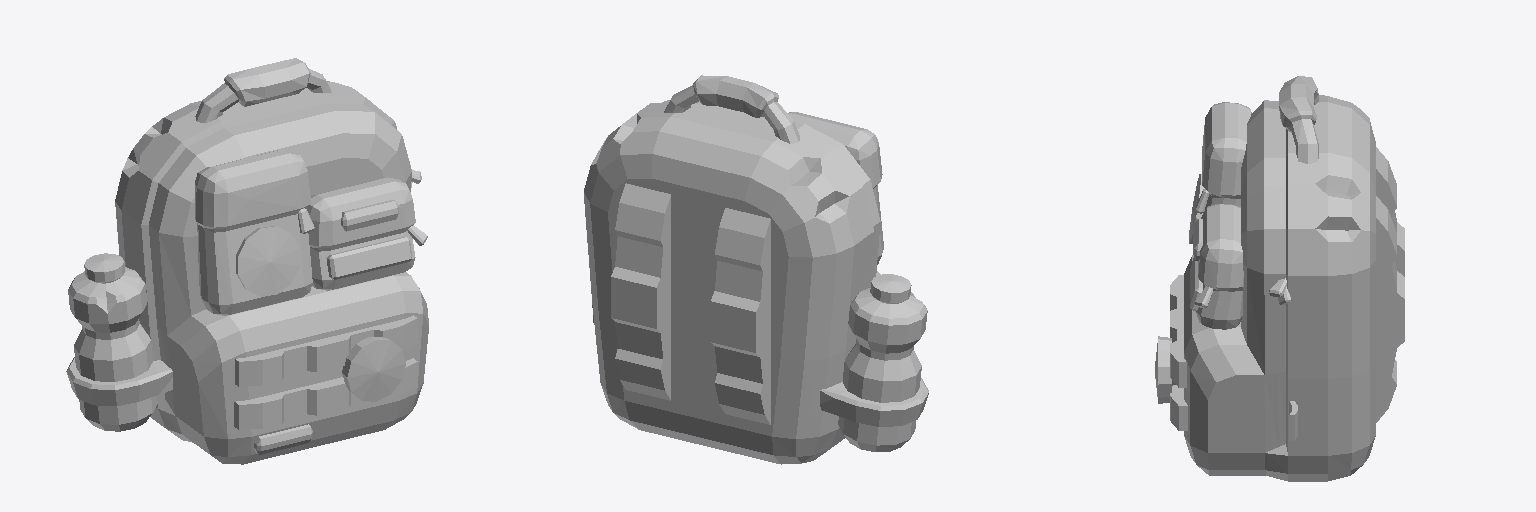
Rendered from backpack.obj.
3 views of the same model, side by side, from view 1: azimuth 30°, elevation 25°; view 2: azimuth 150°, elevation 25°; view 3: azimuth 270°, elevation 25° (orthographic).
Parts seen in each view (by area): view 1: backpack_Cube.306; view 2: backpack_Cube.306; view 3: backpack_Cube.306.
Part boxes in pixels (left/top/right/bottom): backpack_Cube.306: left=66, top=58, right=428, bottom=464; backpack_Cube.306: left=584, top=75, right=928, bottom=464; backpack_Cube.306: left=1155, top=76, right=1404, bottom=481.
Bounding box in the file's own units: 0.8764 × 0.8729 × 0.5636.